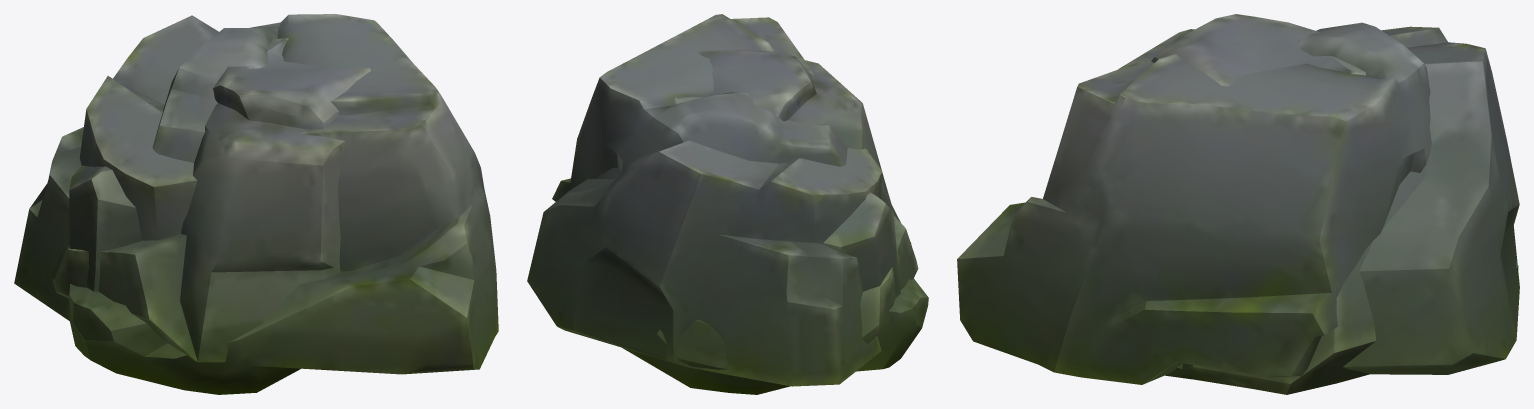
File: rocks.glb
The picture shows the model from 3 angles, left to right: view 1: azimuth 30°, elevation 25°; view 2: azimuth 150°, elevation 25°; view 3: azimuth 270°, elevation 25°; orthographic projection. The views are drawn at different scales.
Parts seen in each view (by area): view 1: Rock_Medium_3, Rock_Medium_1, Rock_Medium_2; view 2: Rock_Medium_2, Rock_Medium_3, Rock_Medium_1; view 3: Rock_Medium_3, Rock_Medium_2, Rock_Medium_1.
Boxes of the visible parts, <box> form: Rock_Medium_3: <box>69,14,498,394</box>; Rock_Medium_1: <box>52,38,370,362</box>; Rock_Medium_2: <box>14,15,218,320</box>; Rock_Medium_2: <box>527,140,882,386</box>; Rock_Medium_3: <box>552,14,928,371</box>; Rock_Medium_1: <box>573,50,918,394</box>; Rock_Medium_3: <box>957,22,1431,384</box>; Rock_Medium_2: <box>1343,26,1519,374</box>; Rock_Medium_1: <box>1118,14,1518,394</box>.
Bounding box in the file's own units: 3.42 × 2.32 × 3.74.
2 materials, 2 textured.
